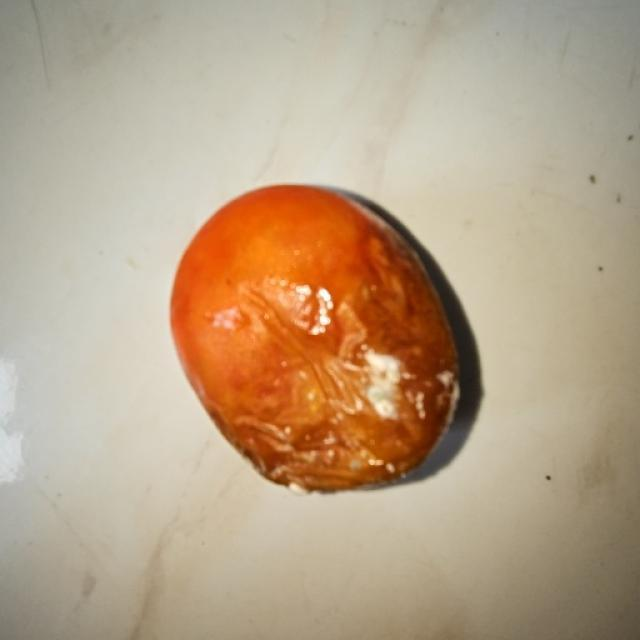Red: (168, 182, 461, 495)
